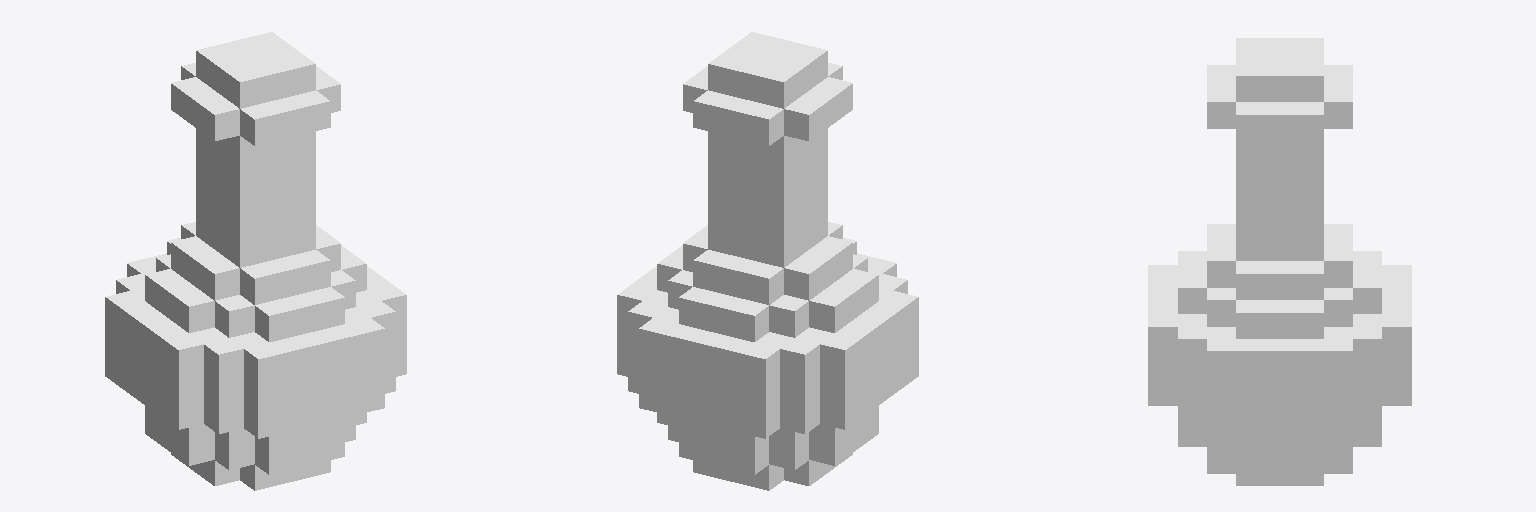
The model's file is bottle06.obj.
The picture shows the model from 3 angles: view 1: azimuth 30°, elevation 25°; view 2: azimuth 150°, elevation 25°; view 3: azimuth 270°, elevation 25°; orthographic projection.
Bounding box in the file's own units: 9 × 15 × 9.